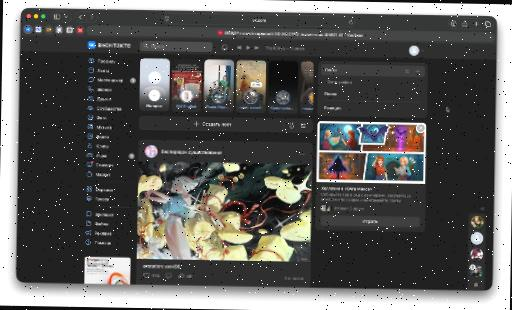vk: (16, 35, 497, 290)
